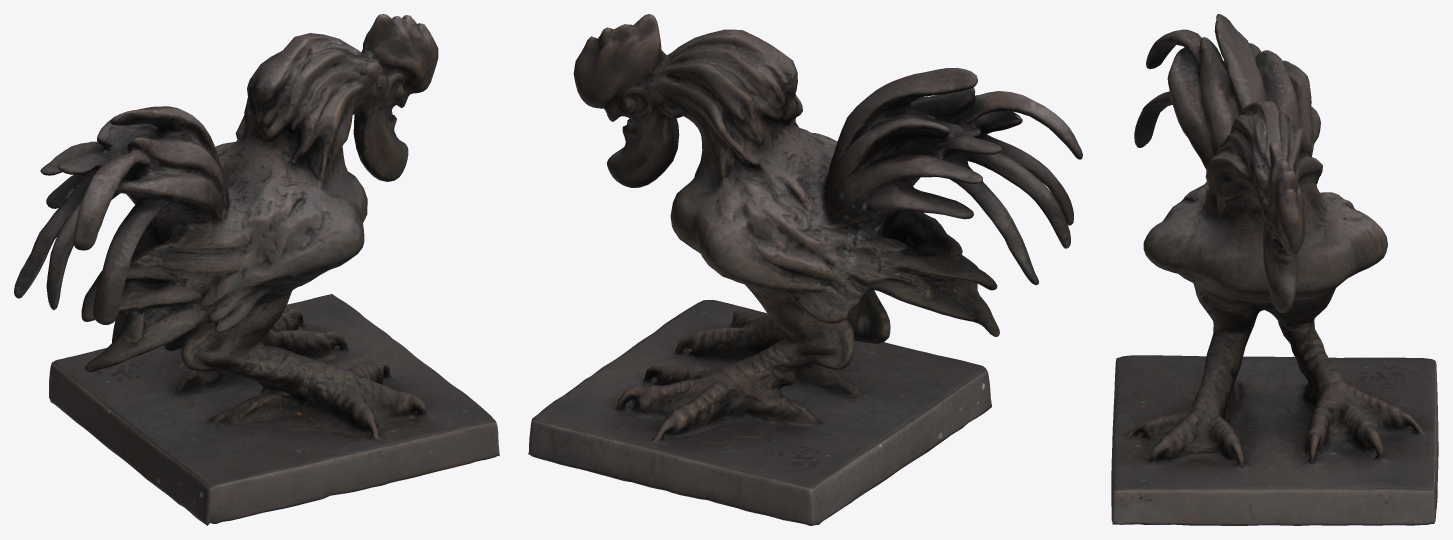
3 views of the same model, side by side, from view 1: azimuth 30°, elevation 25°; view 2: azimuth 150°, elevation 25°; view 3: azimuth 270°, elevation 25° (orthographic). The views are drawn at different scales.
Parts seen in each view (by area): view 1: 4_low; view 2: 4_low; view 3: 4_low.
Part boxes in pixels (left/top/right/bottom): 4_low: left=14, top=14, right=499, bottom=525; 4_low: left=528, top=14, right=1082, bottom=525; 4_low: left=1111, top=14, right=1438, bottom=525.
Bounding box in the file's own units: 2.55 × 2.15 × 1.73.
Materials: 1 (1 with a texture image).
